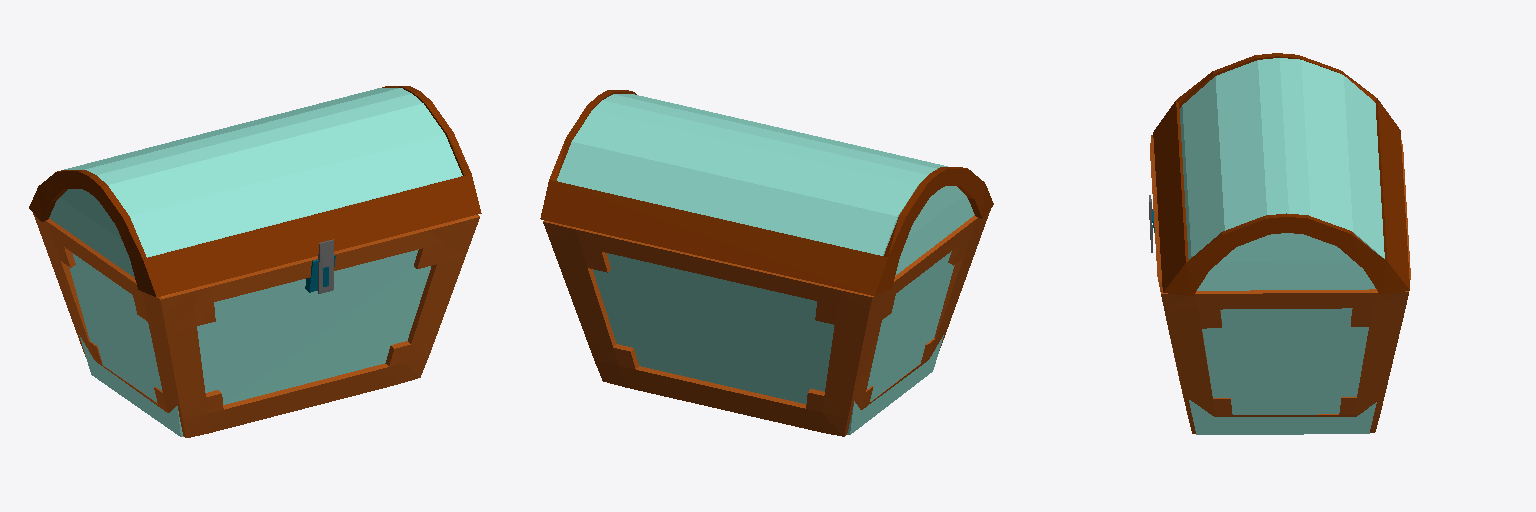
The model's file is peti.obj.
The picture shows the model from 3 angles: view 1: azimuth 30°, elevation 25°; view 2: azimuth 150°, elevation 25°; view 3: azimuth 270°, elevation 25°; orthographic projection.
Visible parts, largest first — view 1: Object001, Box001, Box002, Object002, Box004; view 2: Object001, Box001, Box002, Object002; view 3: Object001, Box001, Object002, Box002.
Part boxes in pixels (x1,y1,x2,y2): Object001: (49,88,462,277); Box001: (69,249,430,436); Box002: (33,213,479,437); Object002: (29,86,481,296); Box004: (318,239,333,293); Object001: (557,94,974,275); Box001: (593,251,954,434); Box002: (543,209,990,436); Object002: (540,90,993,295); Object001: (1180,58,1384,290); Box001: (1189,308,1376,434); Object002: (1153,53,1409,295); Box002: (1150,135,1410,433).
Bounding box in the file's own units: 3128 × 2137 × 2093.